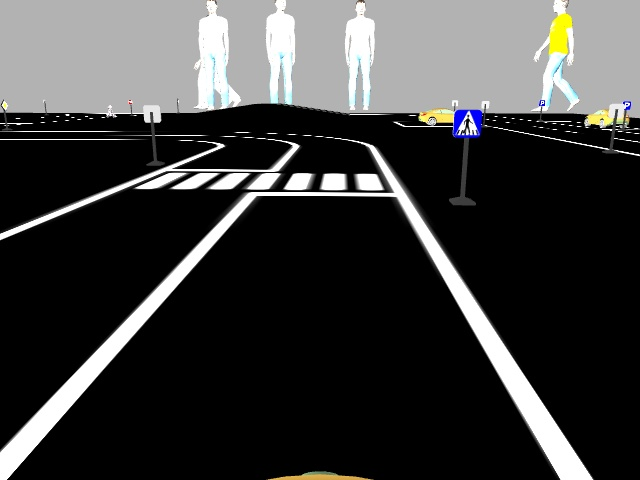Crosswalk: (453, 109, 480, 136)
Parking: (623, 99, 632, 109)
